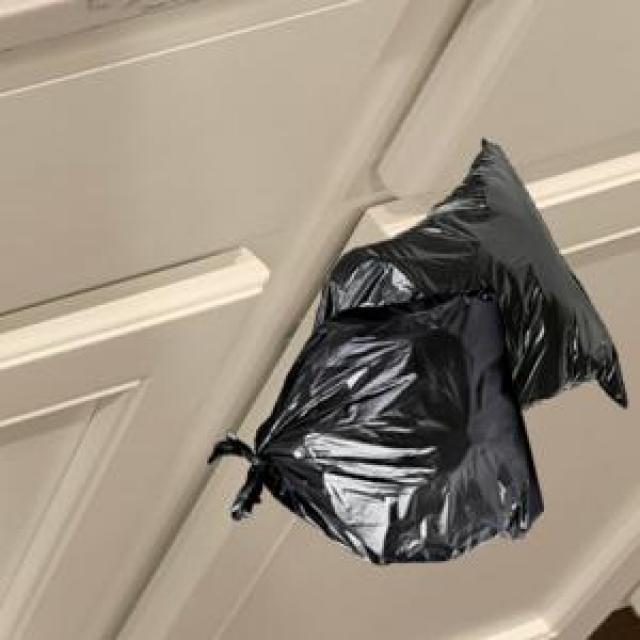waste: (320, 143, 630, 417), (245, 308, 543, 558)
